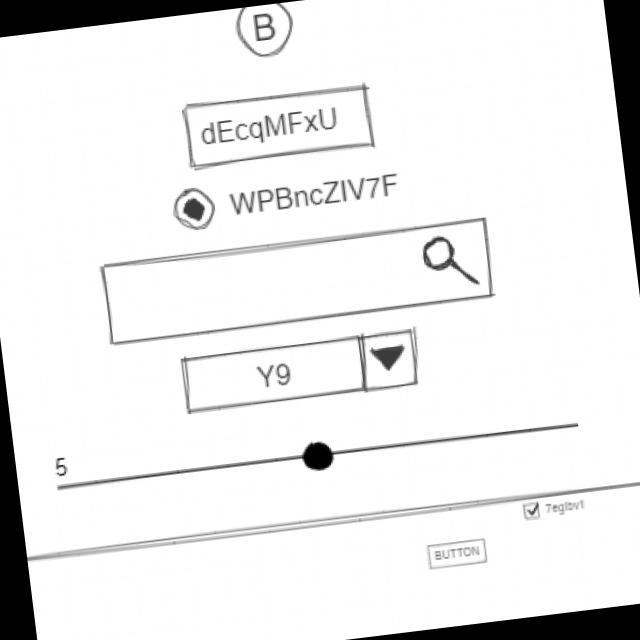button: (424, 534, 489, 570)
checkbox: (520, 494, 588, 522)
container: (26, 473, 640, 640)
icon-button: (229, 1, 300, 62)
input: (178, 78, 380, 172)
radio: (168, 160, 404, 234)
search: (96, 214, 498, 348)
select: (175, 324, 425, 416)
slider: (71, 404, 584, 504)
